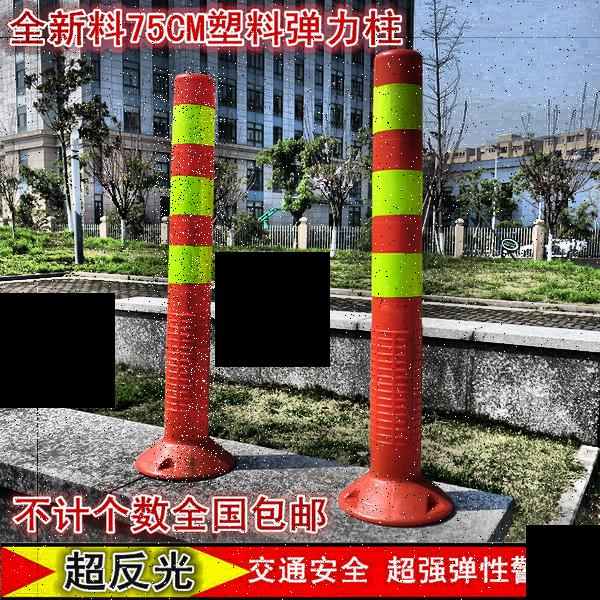bench: (341, 49, 453, 527), (154, 67, 226, 486)
